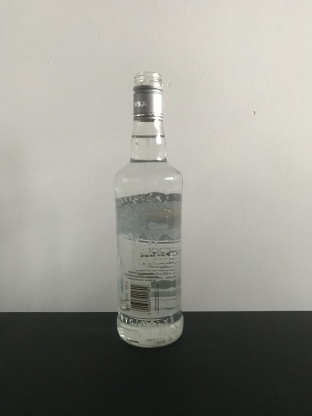nakretka: (131, 71, 164, 122)
